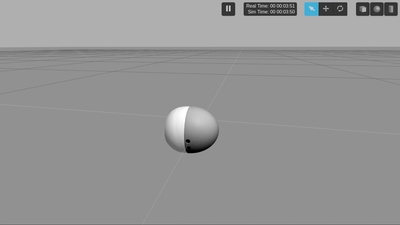mira_robot: (165, 106, 219, 154)
